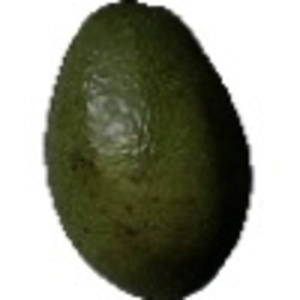abacate: (37, 2, 252, 298)
